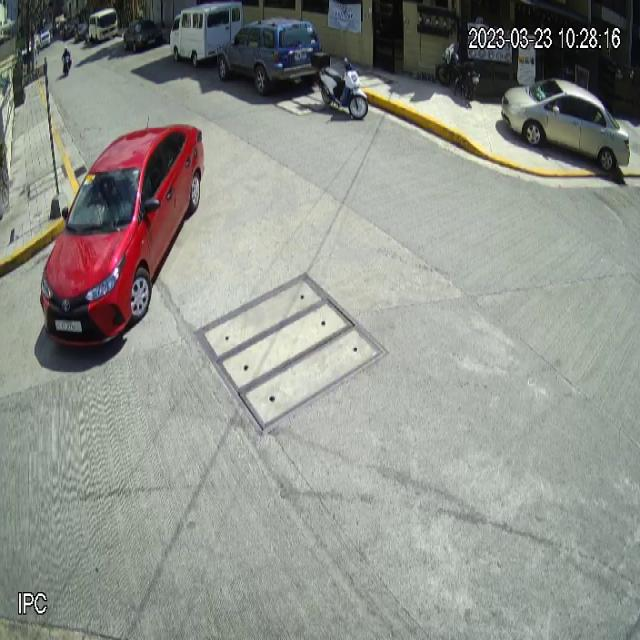Car: (38, 116, 208, 348), (501, 76, 630, 173), (216, 16, 321, 98)
Motorcycle: (316, 56, 368, 121)
Van: (169, 0, 243, 67)
